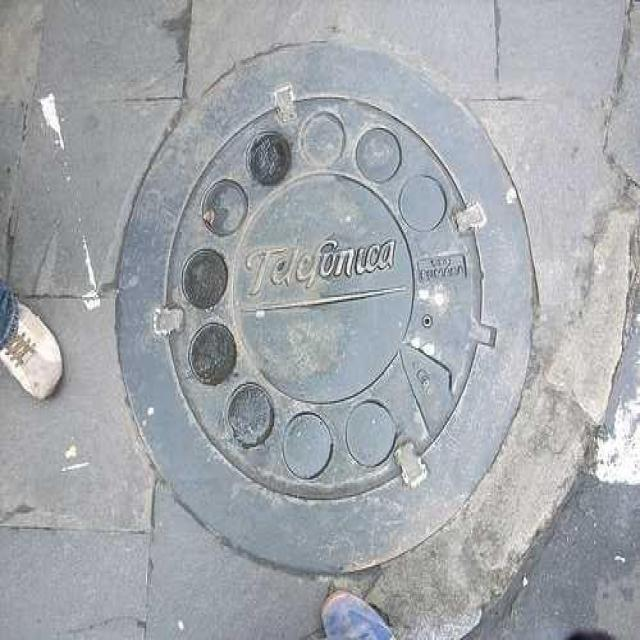manhole: (114, 38, 536, 579)
